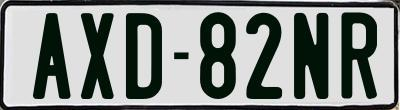2: (243, 10, 283, 96)
8: (197, 12, 234, 102)
A: (32, 12, 71, 102)
D: (123, 12, 160, 102)
N: (291, 13, 326, 105)
R: (339, 10, 376, 101)
X: (78, 12, 111, 102)
